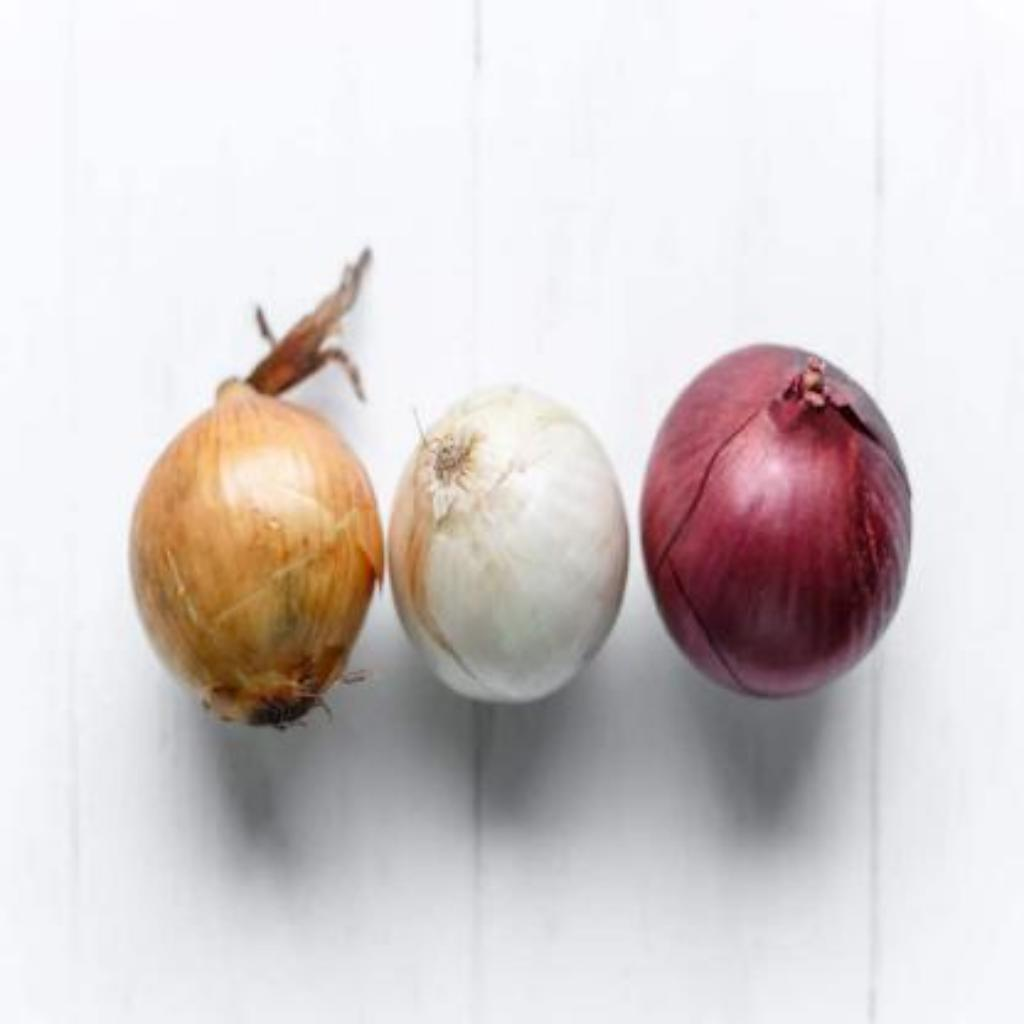Onion: (642, 345, 913, 698), (130, 379, 384, 727), (389, 389, 630, 705)
